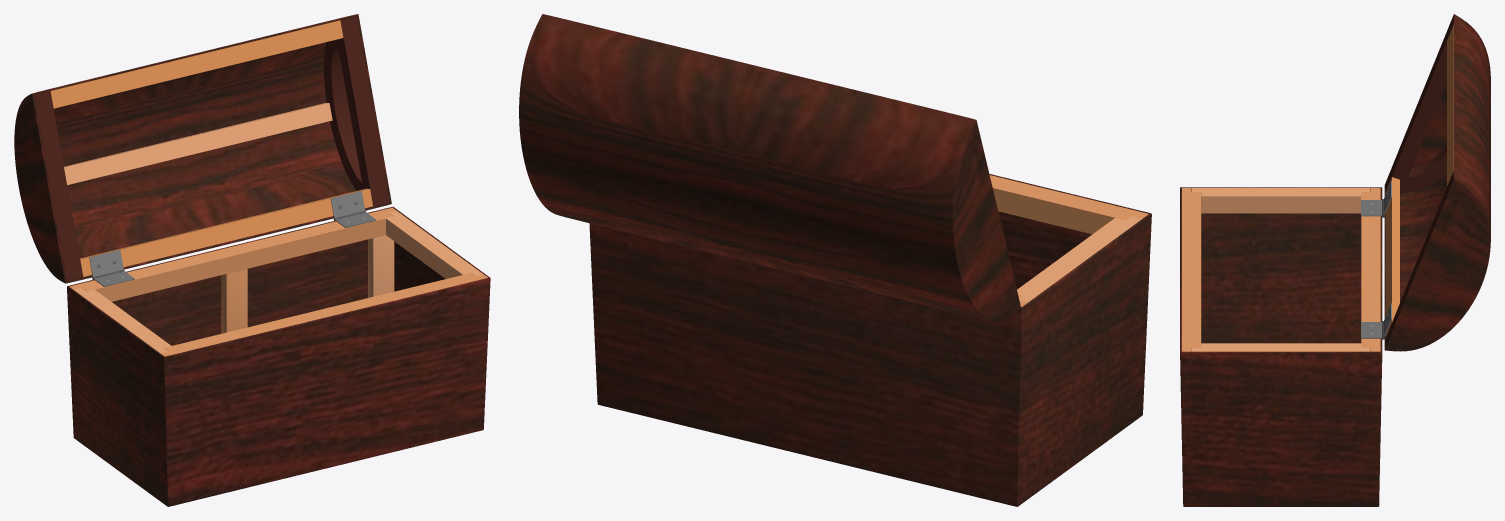
File: Toy Box.fbx
3 renders of one model, left to right at view 1: azimuth 30°, elevation 25°; view 2: azimuth 150°, elevation 25°; view 3: azimuth 270°, elevation 25°, orthographic. The views are drawn at different scales.
Parts seen in each view (by area): view 1: Cube.001, Lid, Frame, Horizontal Beam, Cube.006, Cube, Cube.003, Cube.004, Cube.005, Leaf.001, Leaf; view 2: Cube.001, Lid, Horizontal Beam, Cube.003; view 3: Cube.001, Lid, Horizontal Beam, Cube.003, Frame, Cube.006, Leaf.
Boxes of the visible parts, bbox=[...] form: Cube.001: bbox=[67, 206, 490, 506]; Lid: bbox=[14, 14, 391, 283]; Frame: bbox=[33, 16, 389, 281]; Horizontal Beam: bbox=[69, 207, 487, 356]; Cube.006: bbox=[50, 20, 372, 276]; Cube: bbox=[64, 102, 332, 185]; Cube.003: bbox=[74, 211, 483, 353]; Cube.004: bbox=[221, 269, 247, 333]; Cube.005: bbox=[368, 235, 394, 297]; Leaf.001: bbox=[89, 191, 365, 276]; Leaf: bbox=[94, 212, 376, 286]; Cube.001: bbox=[589, 174, 1151, 506]; Lid: bbox=[519, 14, 1020, 321]; Horizontal Beam: bbox=[989, 175, 1148, 306]; Cube.003: bbox=[1017, 216, 1142, 302]; Cube.001: bbox=[1180, 187, 1382, 506]; Lid: bbox=[1384, 14, 1490, 351]; Horizontal Beam: bbox=[1181, 188, 1380, 351]; Cube.003: bbox=[1191, 188, 1370, 351]; Frame: bbox=[1385, 17, 1453, 346]; Cube.006: bbox=[1385, 25, 1453, 337]; Leaf: bbox=[1361, 200, 1381, 338].
Size of the model in its own units: 404 by 378 by 322.
Materials: 12 (1 with a texture image).
